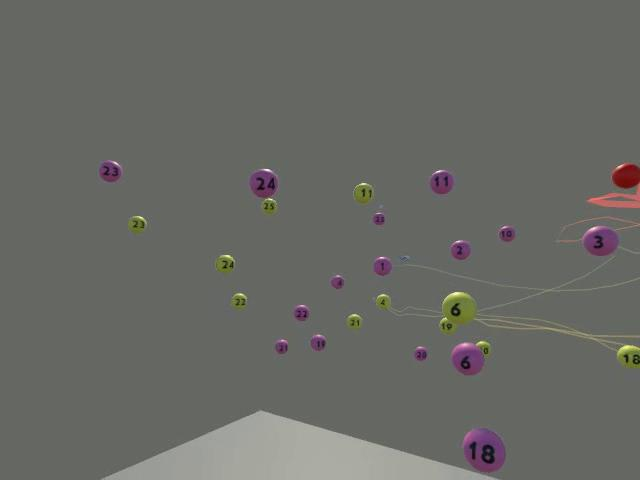ball_01_pink: (373, 256, 391, 275)
ball_02_pink: (449, 239, 470, 259)
ball_03_pink: (581, 225, 618, 256)
ball_04_pink: (330, 274, 344, 289)
ball_04_yellow: (375, 293, 390, 309)
ball_06_pink: (450, 342, 484, 375)
ball_06_yellow: (441, 291, 476, 324)
ball_10_pink: (498, 225, 515, 241)
ball_11_pink: (429, 169, 453, 194)
ball_11_yellow: (353, 182, 373, 203)
ball_18_pink: (462, 427, 505, 472)
ball_18_yellow: (616, 344, 639, 368)
ball_19_pink: (310, 334, 326, 350)
ball_19_yellow: (438, 317, 456, 333)
ball_20_pink: (413, 345, 427, 360)
ball_21_pink: (274, 339, 288, 355)
ball_21_yellow: (346, 313, 362, 329)
ball_22_pink: (293, 304, 309, 321)
ball_22_yellow: (230, 292, 246, 308)
ball_23_pink: (98, 160, 122, 182)
ball_23_yellow: (127, 215, 146, 232)
ball_24_pink: (249, 168, 278, 197)
ball_24_yellow: (215, 254, 234, 273)
ball_25_pink: (372, 212, 385, 225)
ball_25_yellow: (260, 197, 277, 214)
ball_unknown: (475, 340, 491, 357)
user_cursor: (611, 162, 639, 188)
